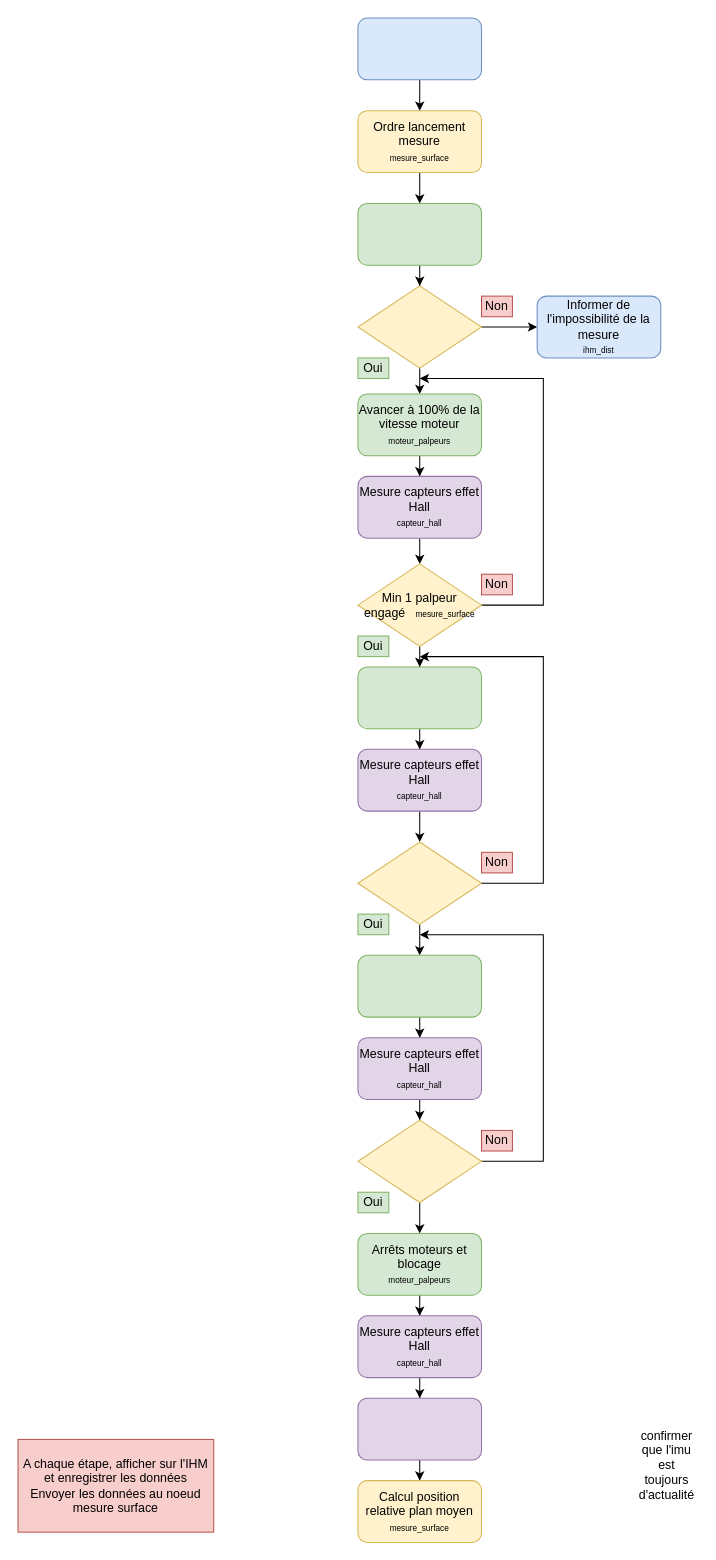
Image size: 716x1560. Some labels were removed from this diagram. The shapes that lost their labels are listed below. From the top down, each one's box as (x1, y1, x2, y2) in pixels, then its label:
(357, 17, 482, 80): Lancement mesure par opérateur ihm_dist
(357, 202, 482, 265): Mesure de la distance VL53L0X
(357, 285, 482, 368): Distance> DistanceRequise mesure_surface
(357, 666, 482, 729): Avancer à 50% de la vitesse moteur moteur_palpeurs
(357, 841, 482, 924): 1 palpeur à 10 mm de la butée mesure_surface
(357, 954, 482, 1017): Avancer à 10% de la vitesse moteur moteur_palpeurs
(357, 1119, 482, 1203): 1 palpeur à 5 mm de la butée mesure_surface
(357, 1397, 482, 1460): Mesure IMU imu_palpeur
